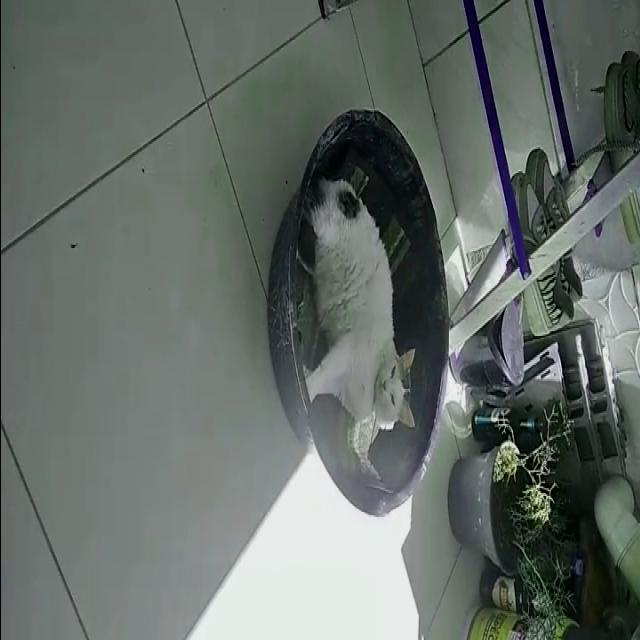Simba: (313, 184, 420, 478)
